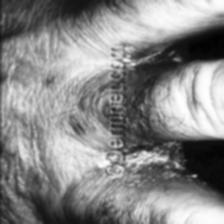Toxin: (134, 139, 174, 180), (128, 42, 178, 68)
